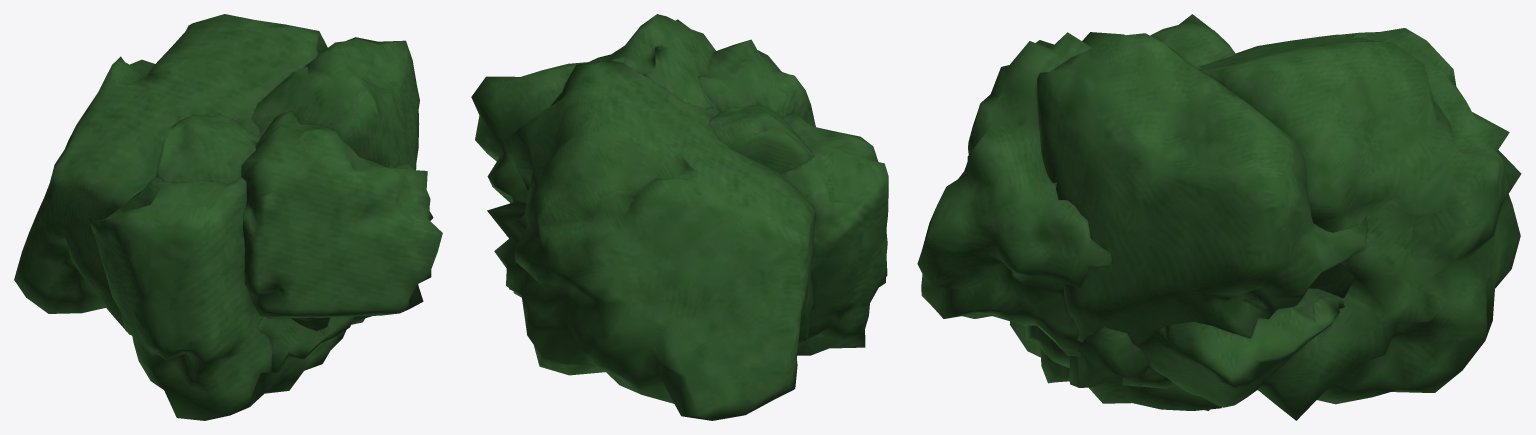
File: large-dark.glb
3 views of the same model, side by side, from view 1: azimuth 30°, elevation 25°; view 2: azimuth 150°, elevation 25°; view 3: azimuth 270°, elevation 25° (orthographic). The views are drawn at different scales.
Parts seen in each view (by area): view 1: bush_leaves; view 2: bush_leaves; view 3: bush_leaves.
Boxes of the visible parts, <box> form: bush_leaves: <box>14,14,442,420</box>; bush_leaves: <box>471,14,888,420</box>; bush_leaves: <box>917,14,1521,420</box>.
Bounding box in the file's own units: 1.29 × 1.05 × 1.41.
2 materials, 2 textured.
